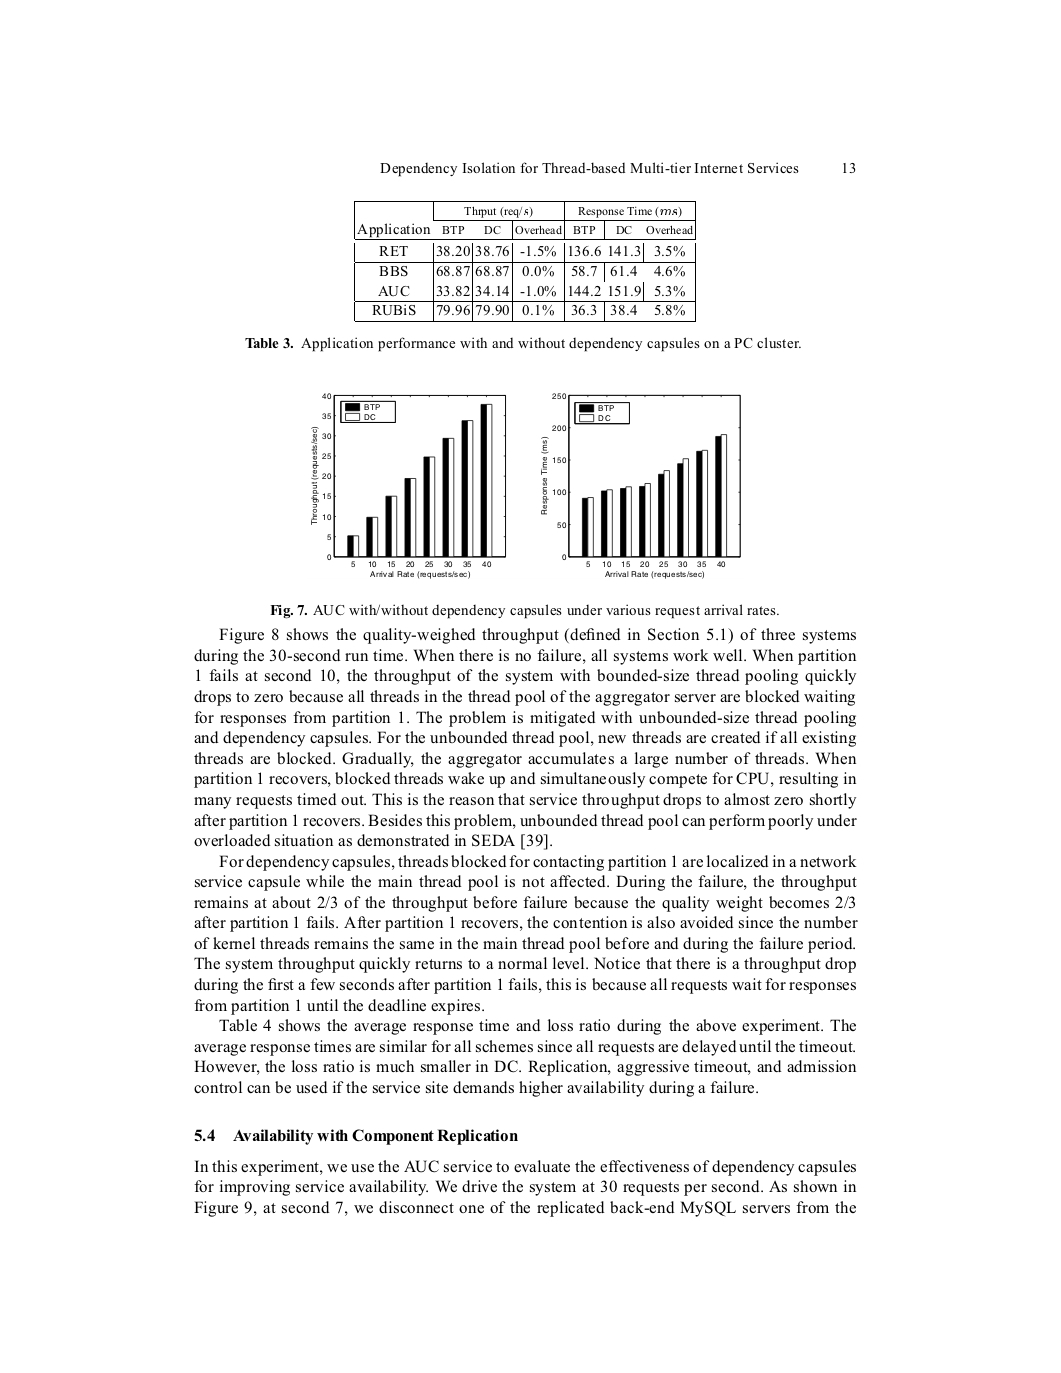Table: (354, 201, 695, 321)
figure: (541, 393, 740, 578), (311, 393, 505, 578)
